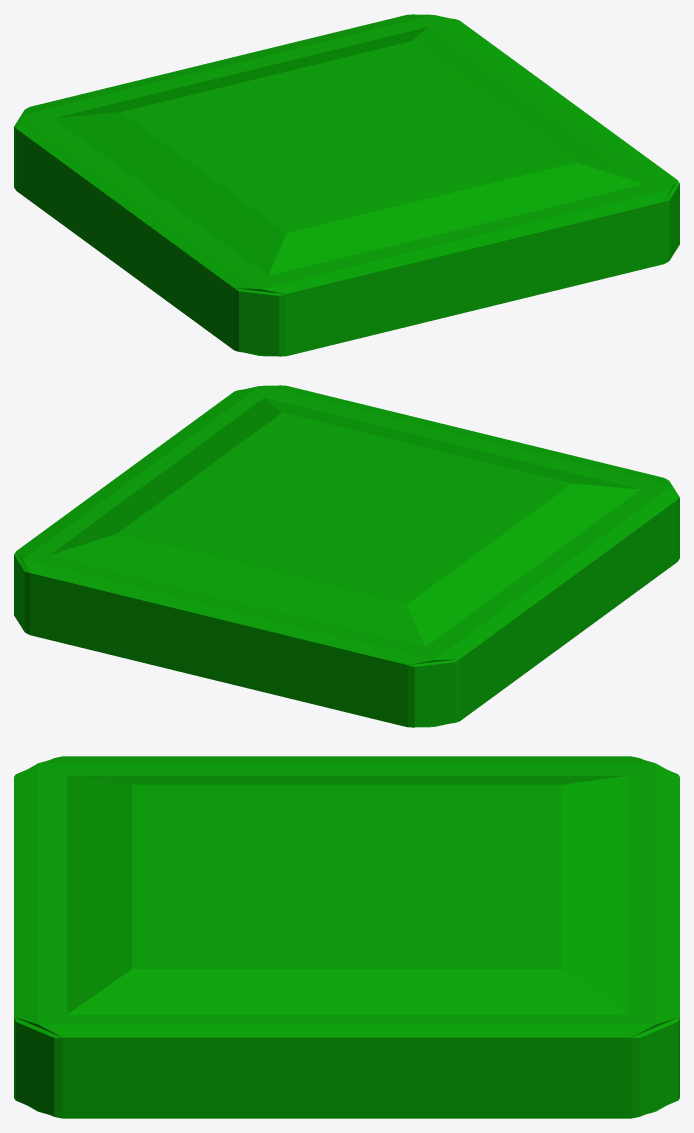
Rendered from Plataforma_Cuadrada_2.fbx.
3 views of the same model, one above another, from view 1: azimuth 30°, elevation 25°; view 2: azimuth 150°, elevation 25°; view 3: azimuth 270°, elevation 25° (orthographic). The views are drawn at different scales.
Parts seen in each view (by area): view 1: Cube; view 2: Cube; view 3: Cube.
Part boxes in pixels (x1=…): Cube: x1=14, y1=14, x2=679, y2=356; Cube: x1=14, y1=385, x2=679, y2=727; Cube: x1=14, y1=756, x2=679, y2=1118.
Size of the model in its own units: 199 by 34.74 by 199.
